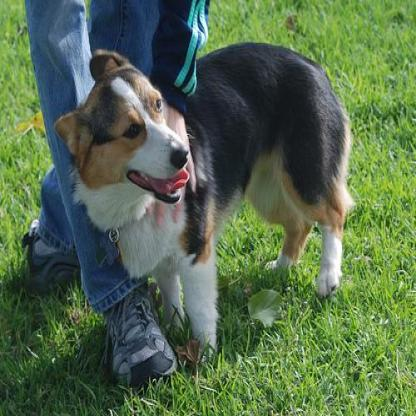Cardigan: (51, 41, 356, 357)
